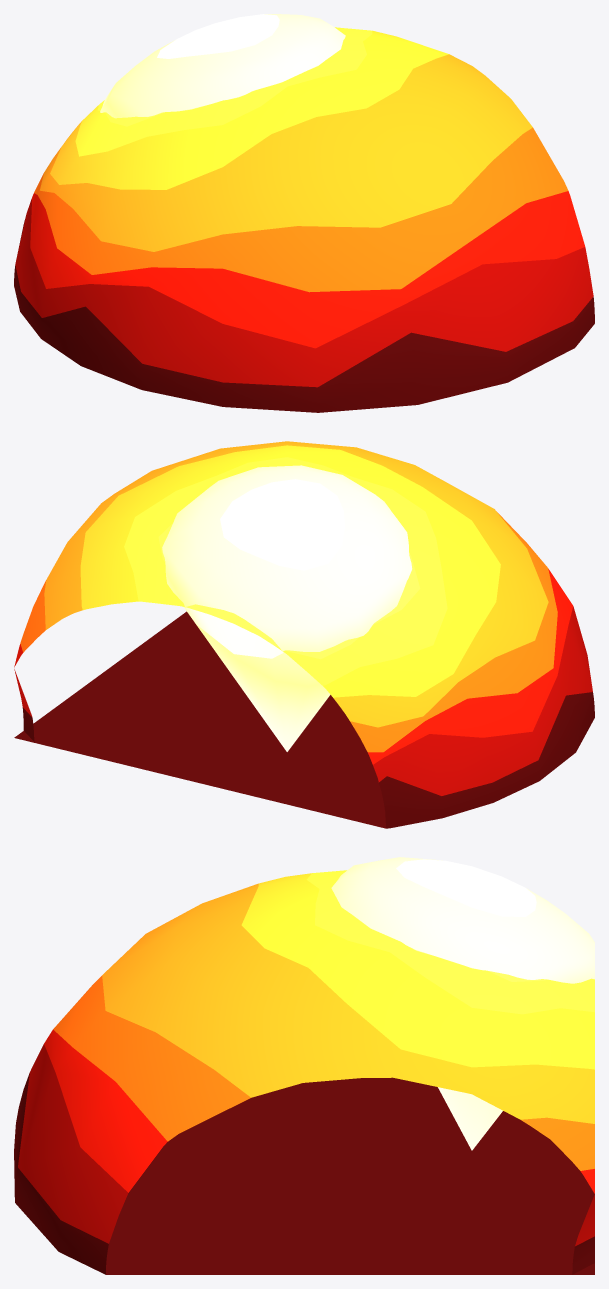
Rendered from shot_charge_b223.glb.
3 renders of one model, top to bottom at view 1: azimuth 30°, elevation 25°; view 2: azimuth 150°, elevation 25°; view 3: azimuth 270°, elevation 25°, orthographic. The views are drawn at different scales.
Parts seen in each view (by area): view 1: charge_twin2_b_fire_shot_charge_b223, charge_twin2_b_core_shot_charge_b223; view 2: charge_twin2_b_fire_shot_charge_b223, charge_twin2_b_core_shot_charge_b223; view 3: charge_twin2_b_fire_shot_charge_b223, charge_twin2_b_core_shot_charge_b223, charge_twin2_a_fire_shot_charge_b223.
Part boxes in pixels (bbox=[...]): charge_twin2_b_fire_shot_charge_b223: bbox=[14, 27, 594, 412]; charge_twin2_b_core_shot_charge_b223: bbox=[100, 14, 345, 118]; charge_twin2_b_fire_shot_charge_b223: bbox=[14, 441, 594, 828]; charge_twin2_b_core_shot_charge_b223: bbox=[162, 465, 412, 751]; charge_twin2_b_fire_shot_charge_b223: bbox=[14, 870, 594, 1274]; charge_twin2_b_core_shot_charge_b223: bbox=[331, 857, 594, 1150]; charge_twin2_a_fire_shot_charge_b223: bbox=[572, 1194, 594, 1274].
Bounding box in the file's own units: 9.97 × 5.37 × 9.92.
